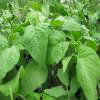Tomato leaf: (21, 19, 49, 70), (56, 14, 84, 31)
